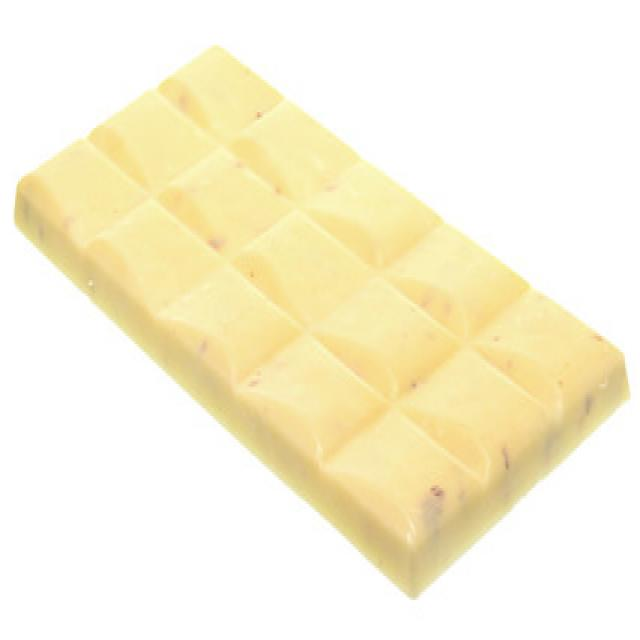chocolate: (11, 42, 634, 601)
